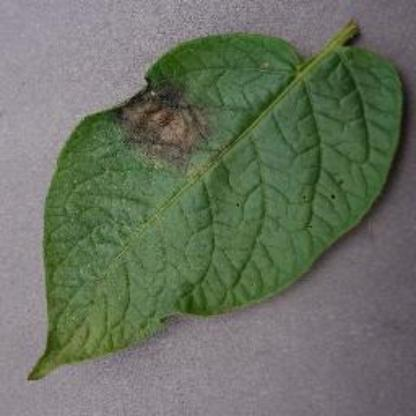Late-Blight: (15, 19, 405, 386)
